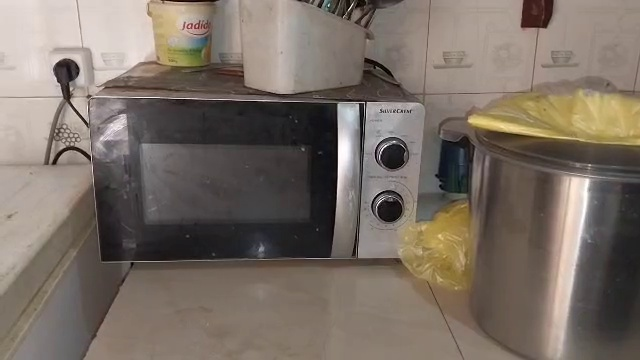microwave: (83, 83, 443, 276)
